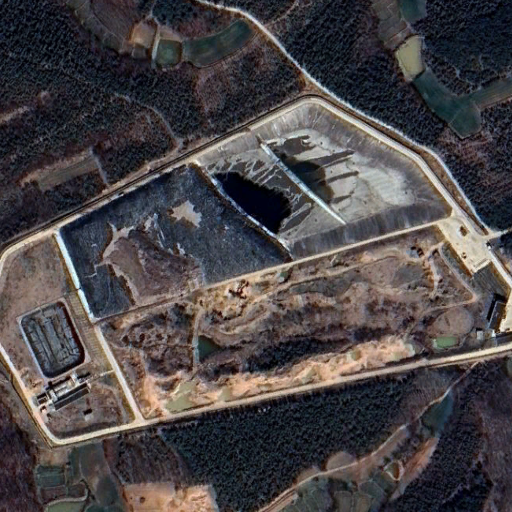lf: (59, 100, 457, 322)
